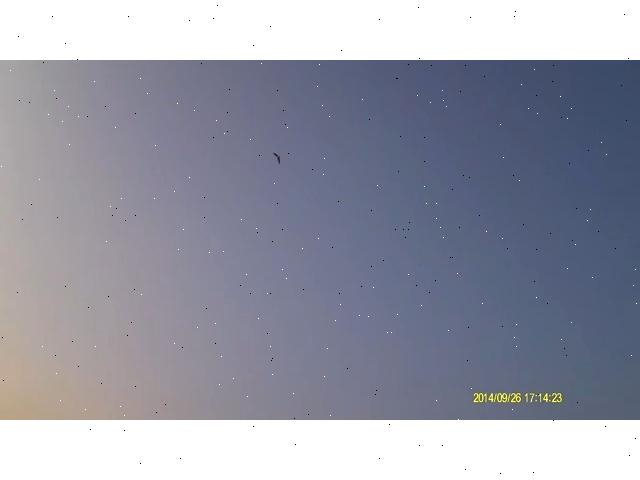Anti-Drone: (268, 146, 288, 170)
